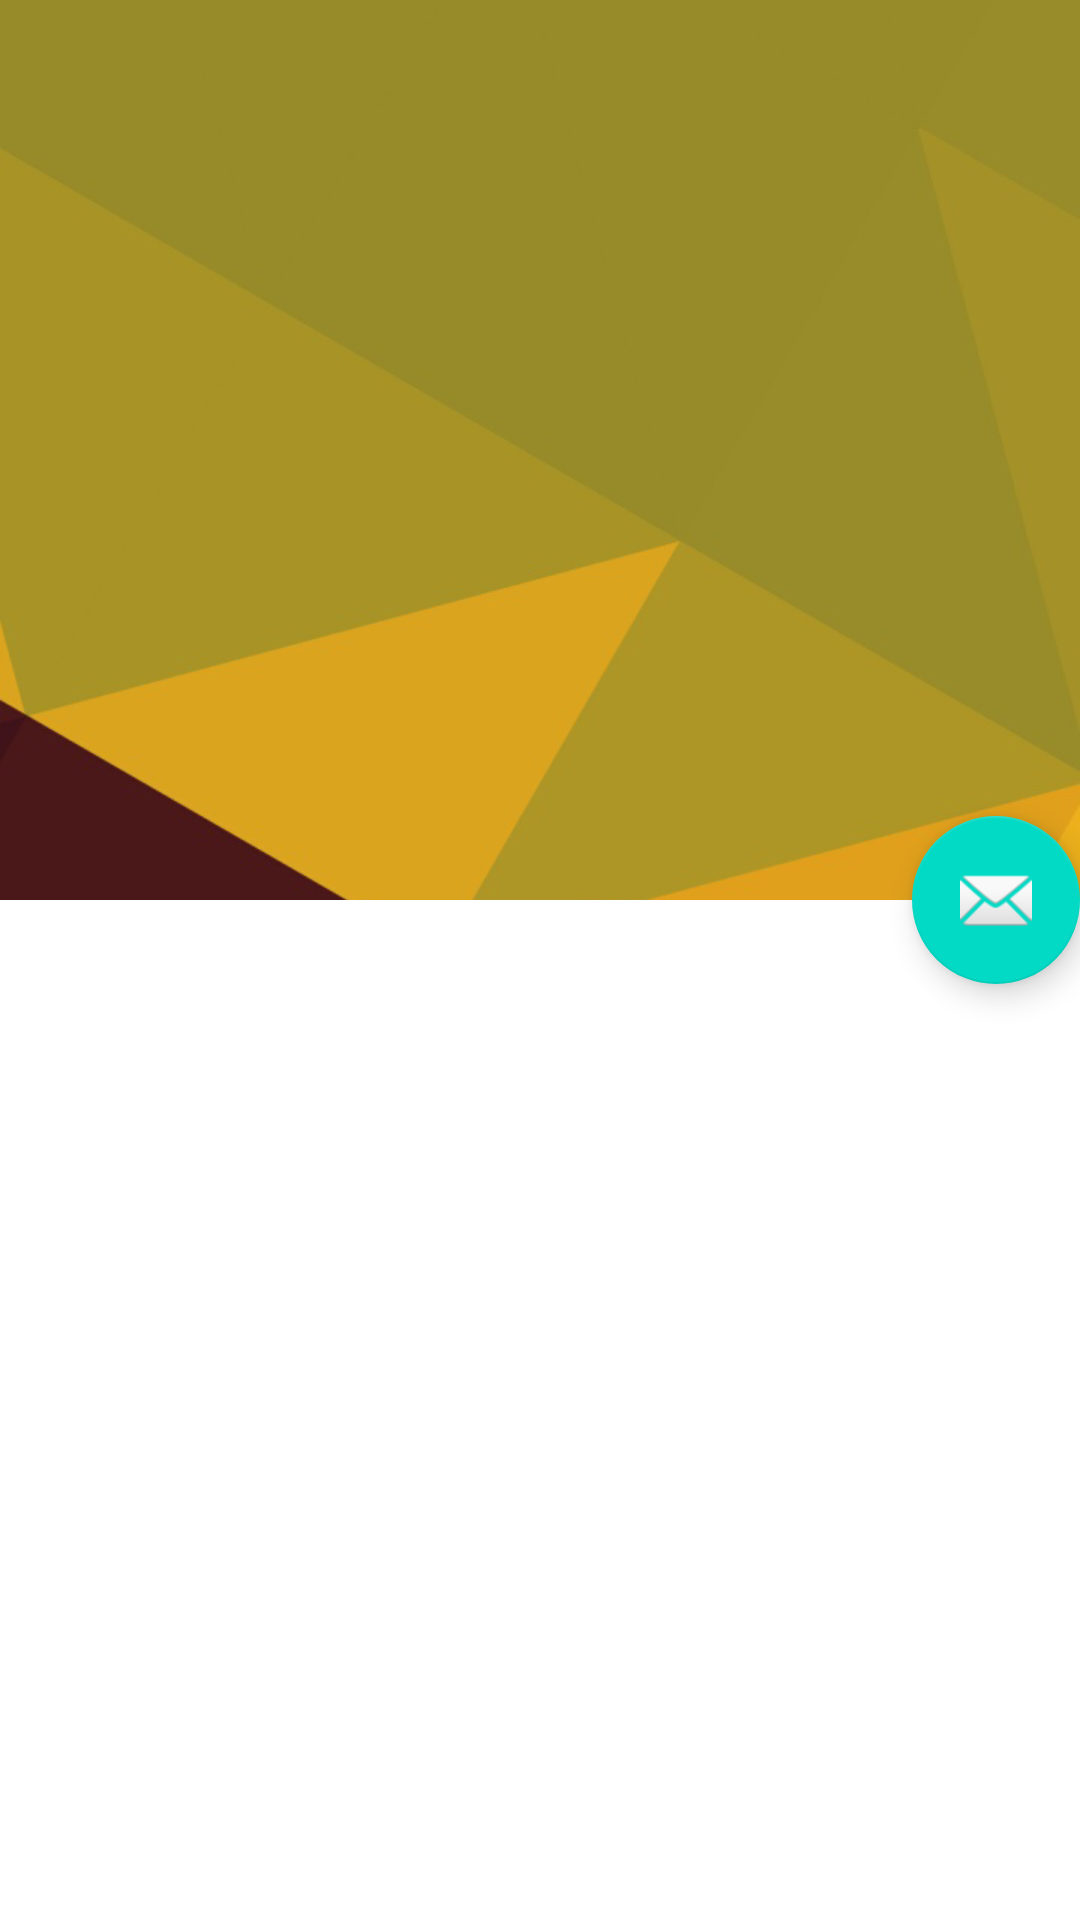

Icon click points for this 1080w x 1920h phone screenshot, format point (x, y):
email: point (996, 900)
